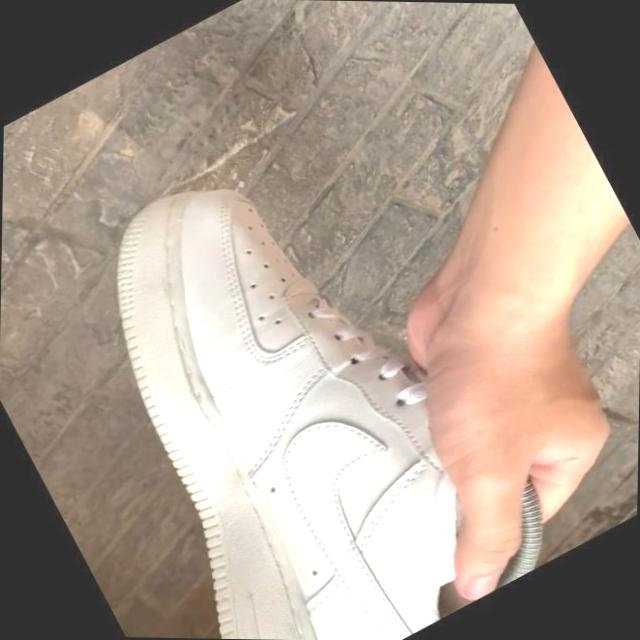nike_fake_airforce: (1, 100, 571, 640)
